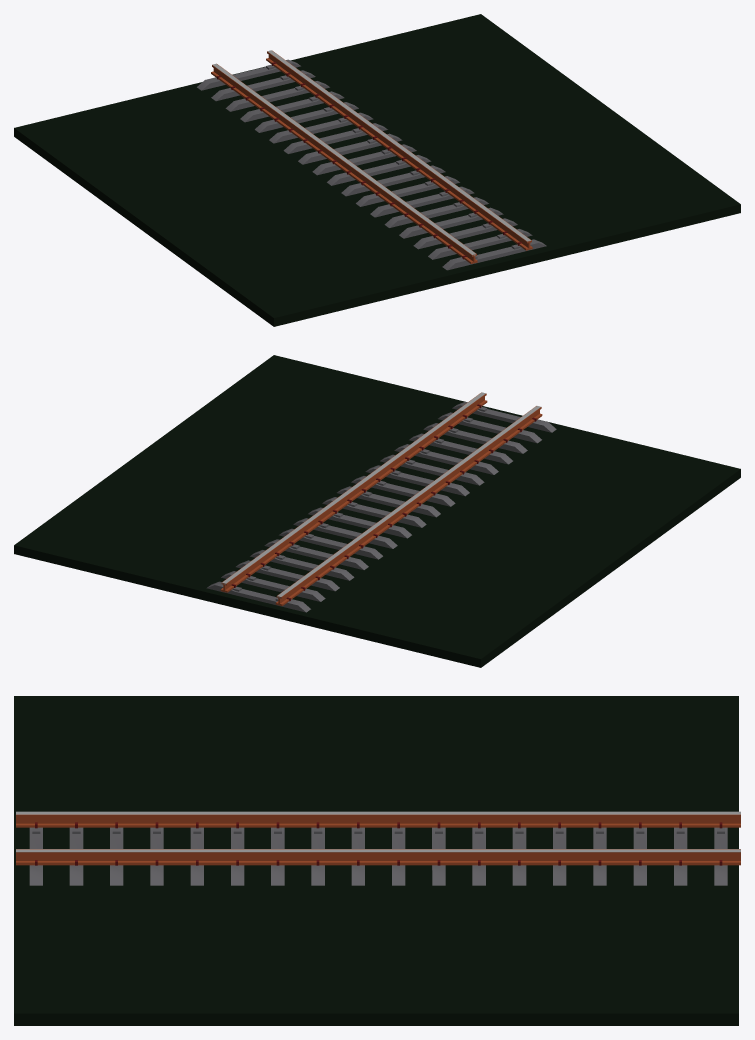
The model's file is Straight.obj.
The picture shows the model from 3 angles, top to bottom: view 1: azimuth 30°, elevation 25°; view 2: azimuth 150°, elevation 25°; view 3: azimuth 270°, elevation 25°; orthographic projection. The views are drawn at different scales.
Visible parts, largest first — view 1: Part9, Part6, Part4, Part8, Part1, Part5, Part3, Part2, Part7, Union1, Union35, Union31 (+15 smaller); view 2: Part9, Part6, Part4, Part1, Part8, Part3, Part5, Part7, Part2, Union4, Union28, Union8 (+15 smaller); view 3: Part9, Part5, Part3, Part1, Part8, Part2, Part4, Part6, Part7, Union17, Union25, Union4 (+15 smaller).
Part boxes in pixels (x1,y1,x2,y2): Part9: [14, 14, 740, 326]; Part6: [212, 63, 475, 255]; Part4: [267, 50, 530, 241]; Part8: [211, 71, 477, 263]; Part1: [266, 58, 532, 250]; Part5: [213, 68, 475, 261]; Part3: [268, 55, 530, 248]; Part2: [267, 50, 531, 243]; Part7: [212, 64, 476, 256]; Union1: [442, 239, 546, 270]; Union35: [341, 165, 445, 196]; Union31: [384, 197, 488, 227]; Part9: [14, 355, 740, 667]; Part6: [277, 406, 540, 598]; Part4: [222, 392, 485, 584]; Part1: [220, 400, 487, 592]; Part8: [275, 413, 542, 605]; Part3: [223, 396, 484, 590]; Part5: [278, 410, 539, 603]; Part7: [276, 406, 541, 598]; Part2: [221, 392, 486, 585]; Union4: [206, 581, 310, 612]; Union28: [380, 454, 484, 485]; Union8: [264, 539, 368, 569]; Part9: [14, 696, 738, 1025]; Part5: [16, 817, 740, 823]; Part3: [16, 855, 740, 860]; Part1: [16, 861, 740, 865]; Part8: [16, 823, 740, 827]; Part2: [16, 849, 740, 854]; Part4: [16, 849, 740, 852]; Part6: [16, 811, 740, 814]; Part7: [16, 814, 740, 817]; Union17: [512, 827, 526, 885]; Union25: [69, 827, 83, 885]; Union4: [714, 827, 727, 885].
Size of the model in its own units: 56 by 2.62 by 54.16.
